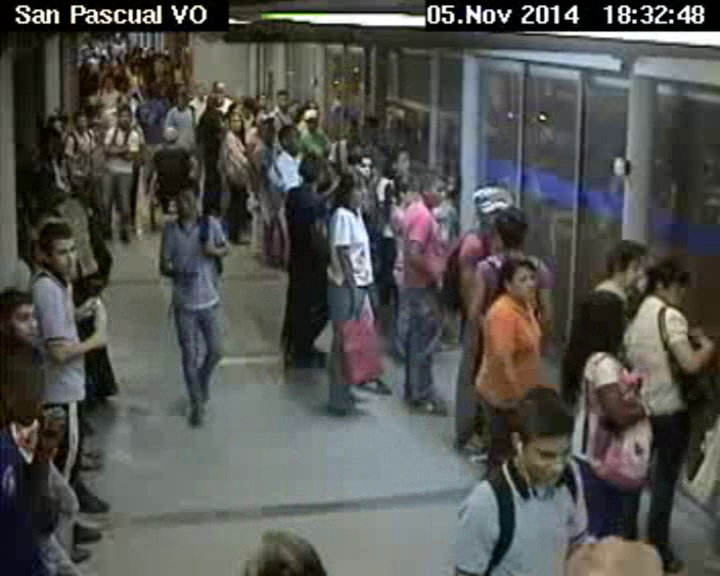person: (502, 390, 574, 491), (1, 334, 65, 428), (573, 284, 629, 362), (603, 235, 649, 300), (33, 216, 80, 275), (651, 257, 693, 314), (1, 288, 46, 340), (470, 182, 513, 228), (489, 205, 526, 252), (504, 260, 537, 303), (419, 167, 447, 208), (175, 176, 198, 222), (386, 173, 413, 208), (334, 174, 363, 206), (346, 147, 372, 179), (297, 156, 324, 185), (276, 125, 301, 154), (389, 143, 412, 172), (256, 115, 279, 143), (224, 110, 245, 134), (115, 105, 132, 130), (343, 118, 359, 144), (302, 107, 320, 130), (276, 87, 292, 112), (113, 90, 133, 108), (241, 93, 256, 116), (162, 125, 179, 144), (47, 114, 64, 133), (173, 89, 188, 109), (204, 91, 218, 112), (193, 82, 208, 101), (72, 111, 86, 131), (146, 81, 159, 101), (210, 78, 224, 96), (101, 74, 117, 89)
